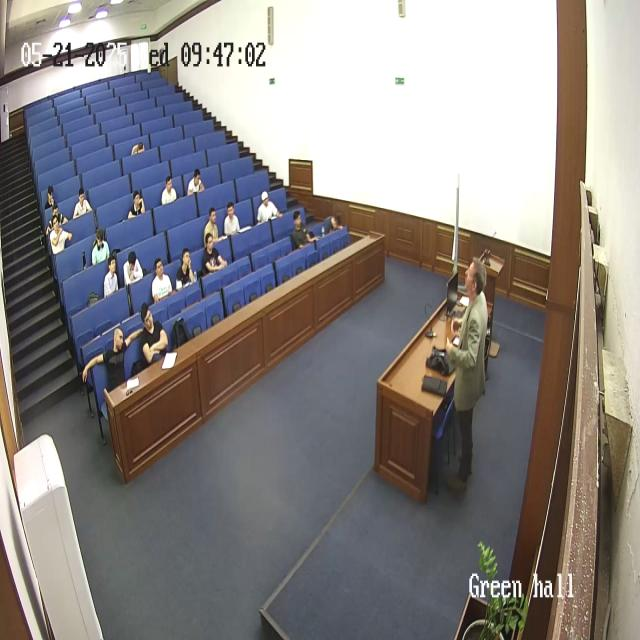person: (444, 257, 490, 491), (80, 324, 142, 390), (137, 303, 169, 369), (201, 232, 227, 276), (290, 210, 318, 250), (152, 255, 174, 301), (49, 216, 73, 255), (257, 189, 283, 225), (175, 247, 197, 289), (123, 250, 144, 289), (223, 201, 243, 238), (91, 228, 110, 266), (203, 207, 222, 245), (103, 256, 119, 299), (72, 187, 92, 220), (128, 189, 146, 219), (321, 214, 344, 237), (187, 168, 205, 196), (162, 175, 178, 205), (129, 136, 147, 162), (43, 186, 56, 210)
